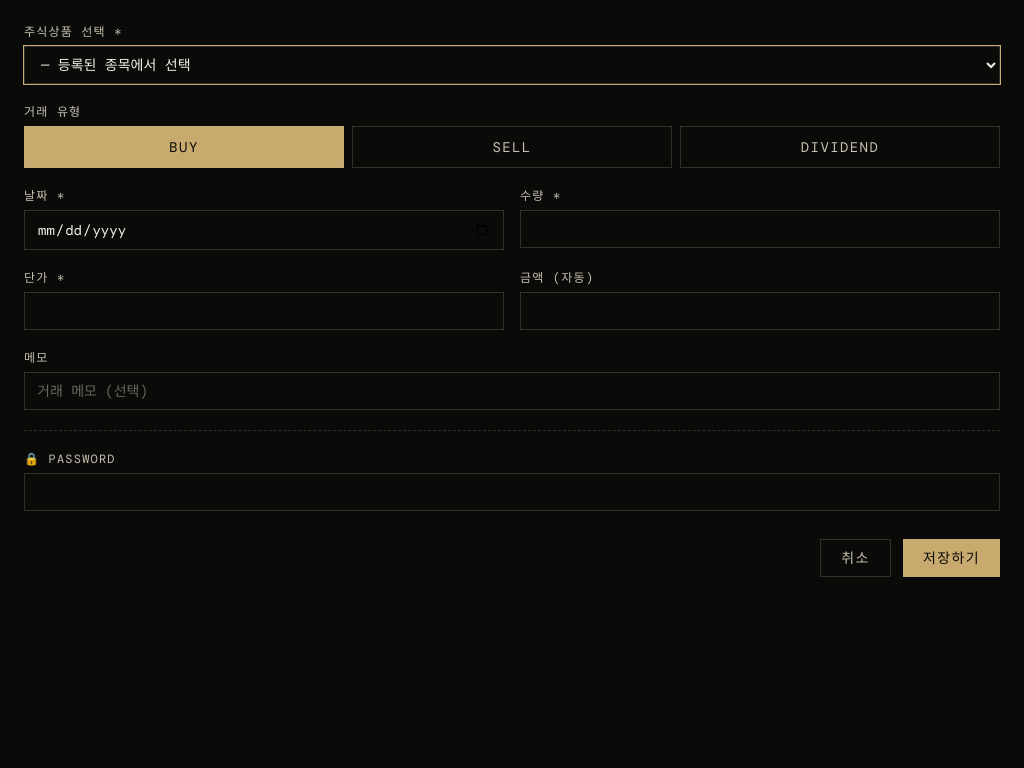
Scenario: TransactionForm › TS-56: BUY → DIVIDEND 전환 → 수량/단가 DOM 제거
Step 1. Click the button "BUY" → [184, 147], box [24,126,344,168]
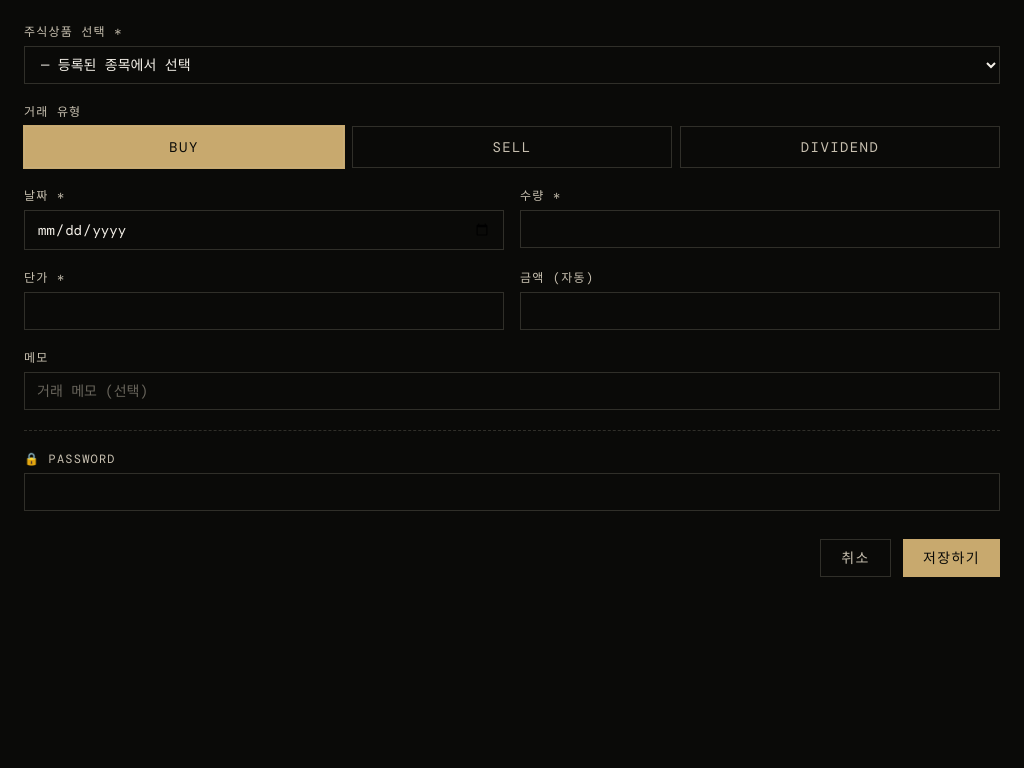
Expected: the number field labelled "수량 *" is shown, [520,210,1000,248]
Step 2. Click the button "DIVIDEND" → [840, 147], box [680,126,1000,168]
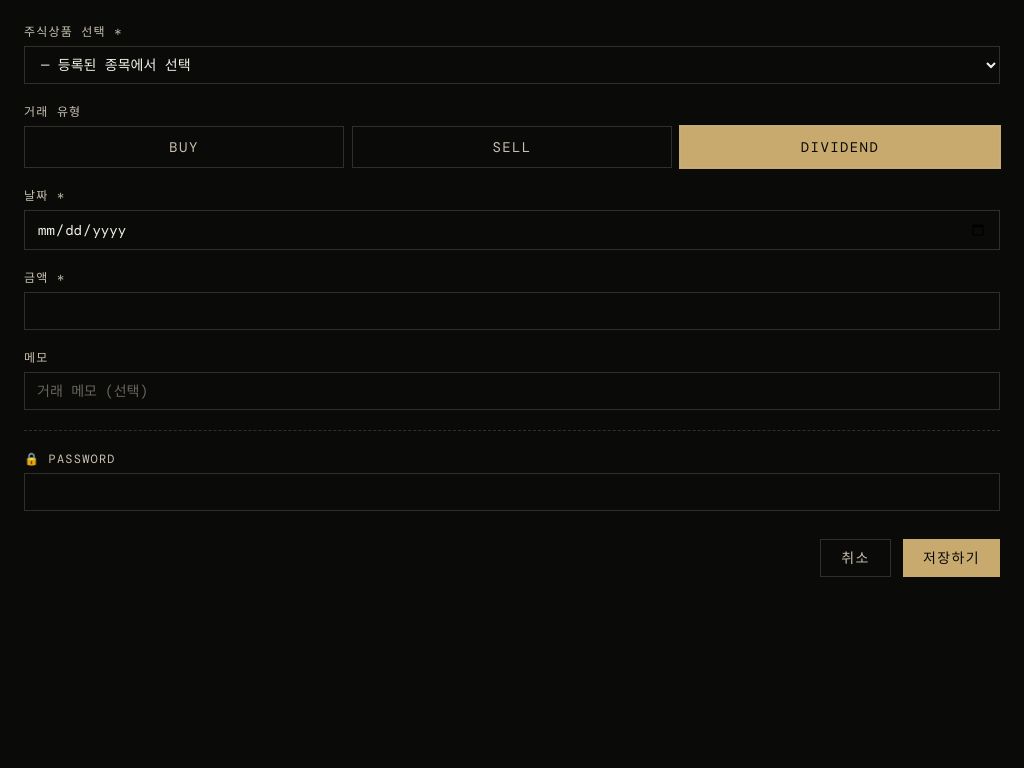
Now the label labelled "수량" is gone
Now the label labelled "단가" is gone
